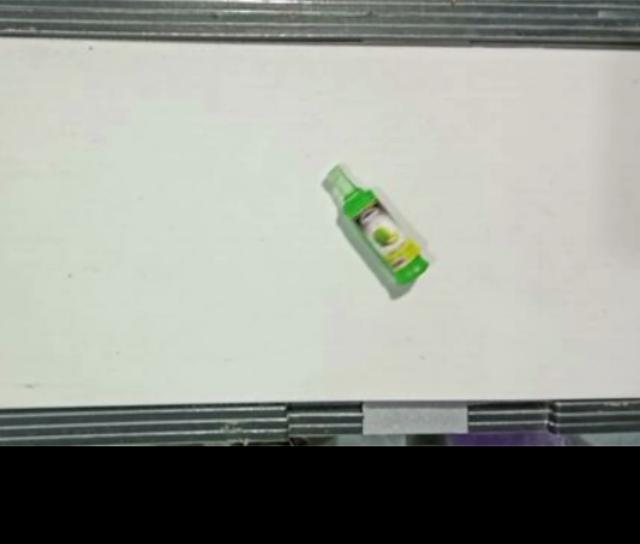Plastik: (328, 164, 430, 287)
